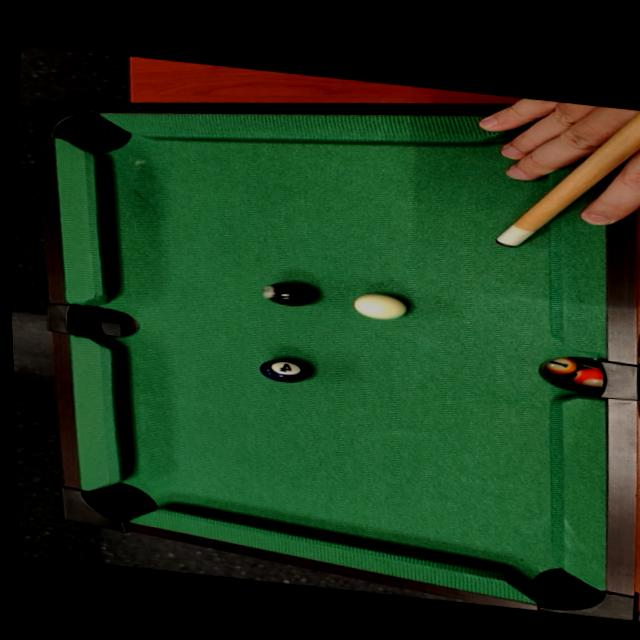cue ball: (353, 290, 410, 320)
other: (258, 277, 322, 308), (258, 355, 311, 384)
